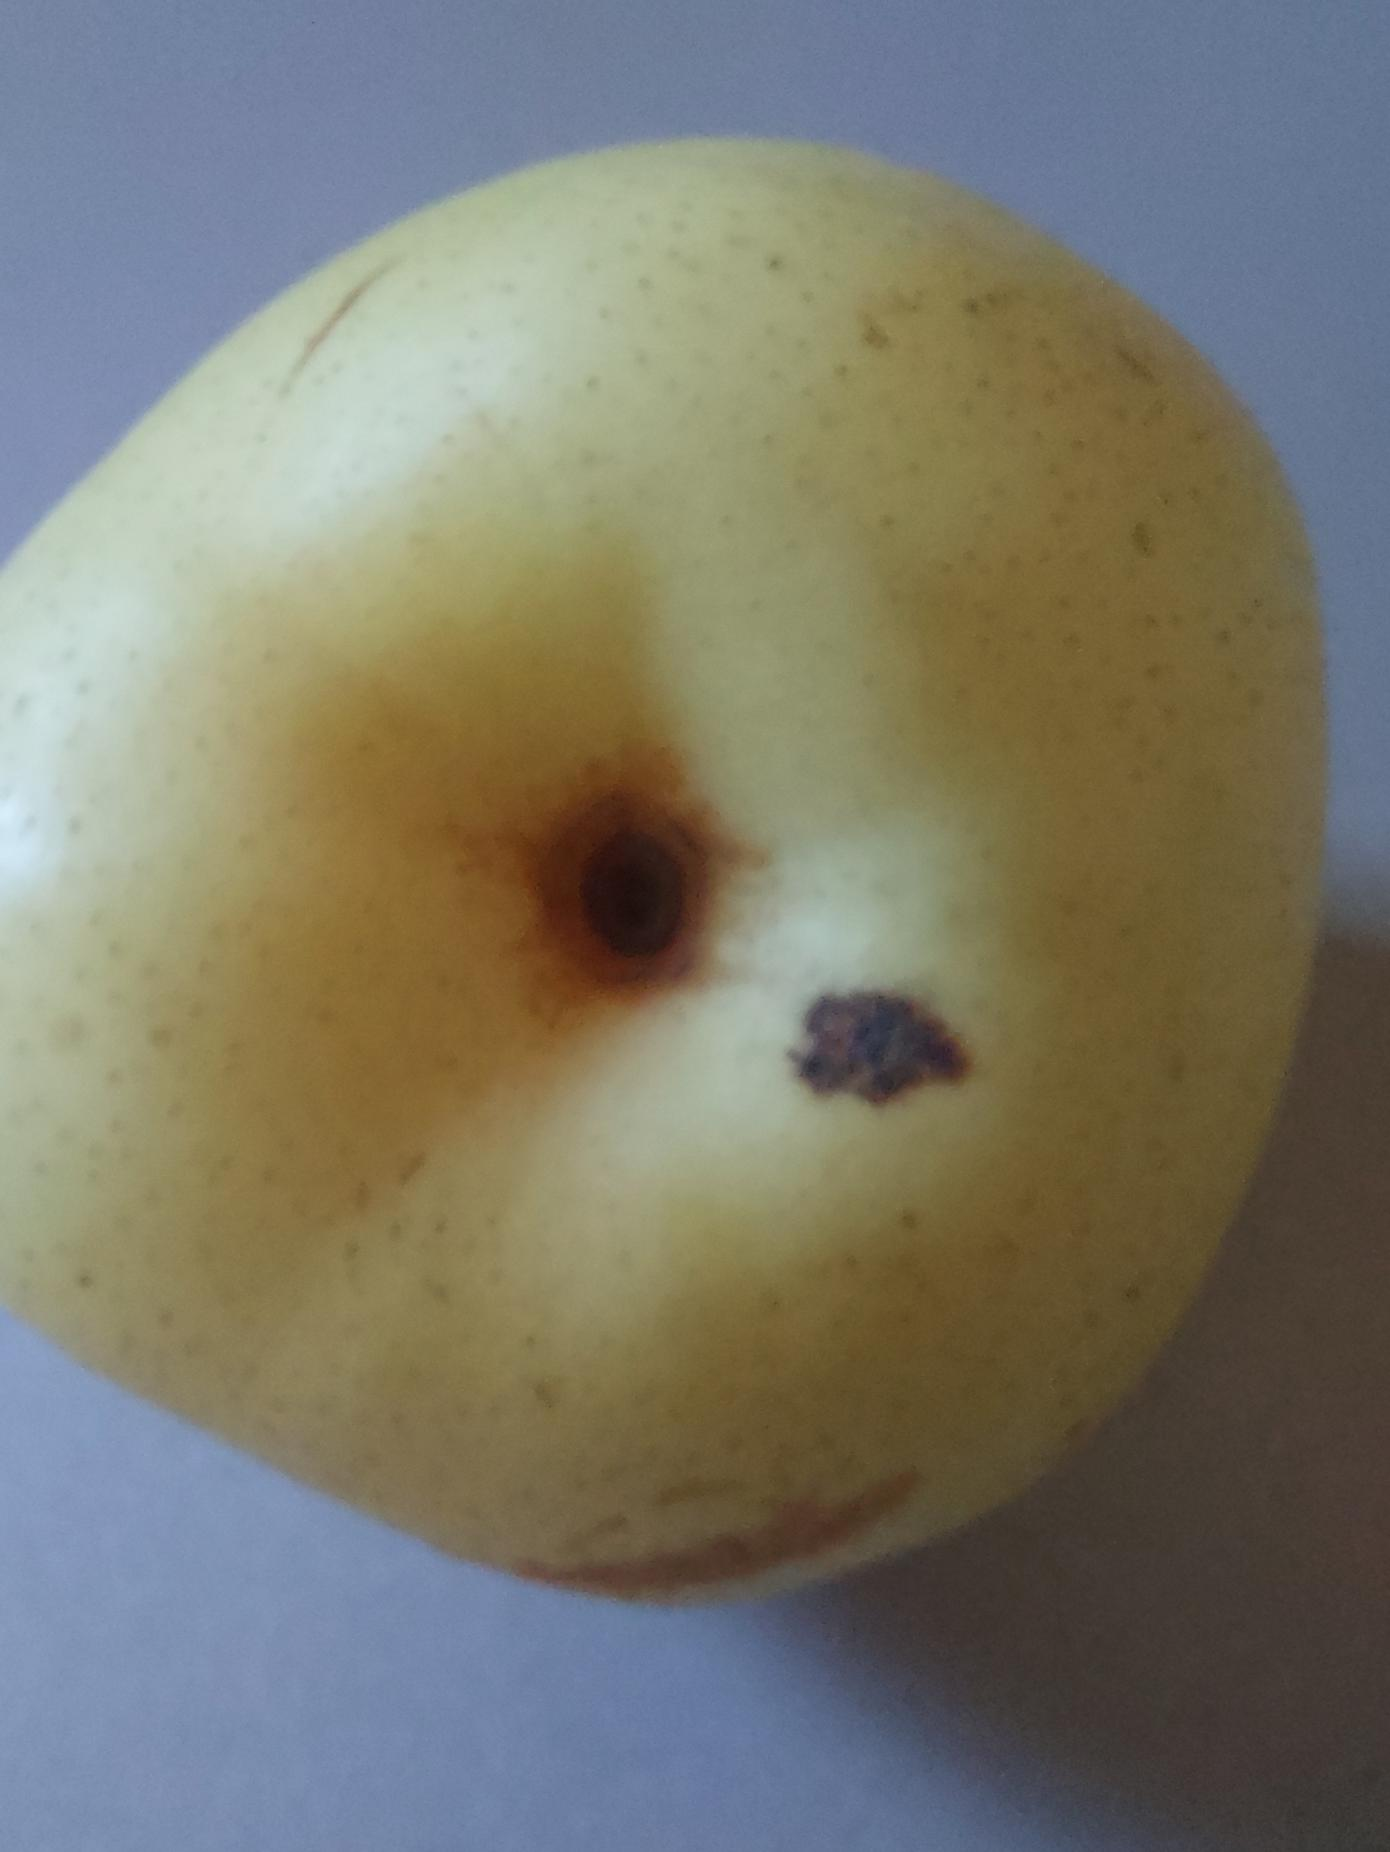Good Pear: (0, 77, 1390, 1686)
